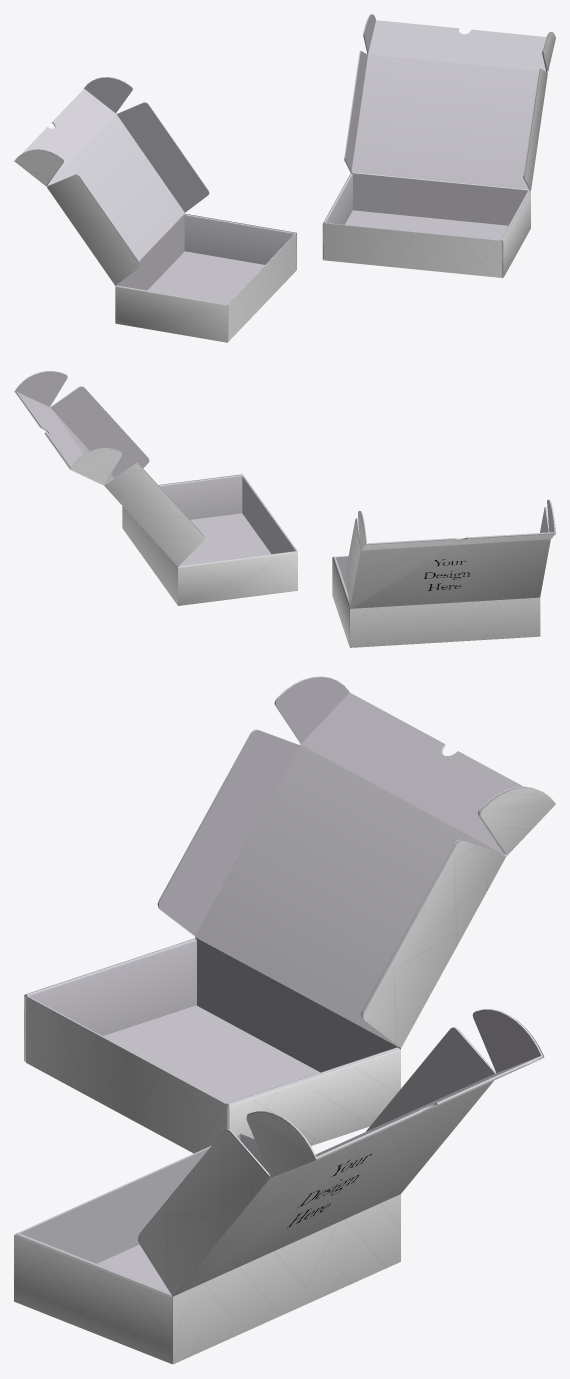
The model's file is Die Cut A-4.glb.
3 views of the same model, one above another, from view 1: azimuth 30°, elevation 25°; view 2: azimuth 150°, elevation 25°; view 3: azimuth 270°, elevation 25° (orthographic). The views are drawn at different scales.
Visible parts, largest first — view 1: Box3.002, Box3.001, Box3-outer, Box3-outer.002; view 2: Box3-outer, Box3.002, Box3-outer.002, Box3.001; view 3: Box3.001, Box3-outer.002, Box3-outer, Box3.002.
Boxes of the visible parts, x1=… form: Box3.002: x1=323, y1=14, x2=551, y2=277; Box3.001: x1=22, y1=77, x2=296, y2=342; Box3-outer: x1=14, y1=77, x2=296, y2=342; Box3-outer.002: x1=322, y1=29, x2=555, y2=278; Box3-outer: x1=332, y1=508, x2=555, y2=647; Box3.002: x1=15, y1=371, x2=297, y2=566; Box3-outer.002: x1=14, y1=371, x2=297, y2=605; Box3.001: x1=333, y1=499, x2=555, y2=645; Box3.001: x1=24, y1=676, x2=533, y2=1129; Box3-outer.002: x1=14, y1=1020, x2=543, y2=1364; Box3-outer: x1=24, y1=676, x2=555, y2=1153; Box3.002: x1=15, y1=1009, x2=543, y2=1363.
Size of the model in its own units: 11.53 by 3.34 by 5.65.
Materials: 2 (1 with a texture image).
